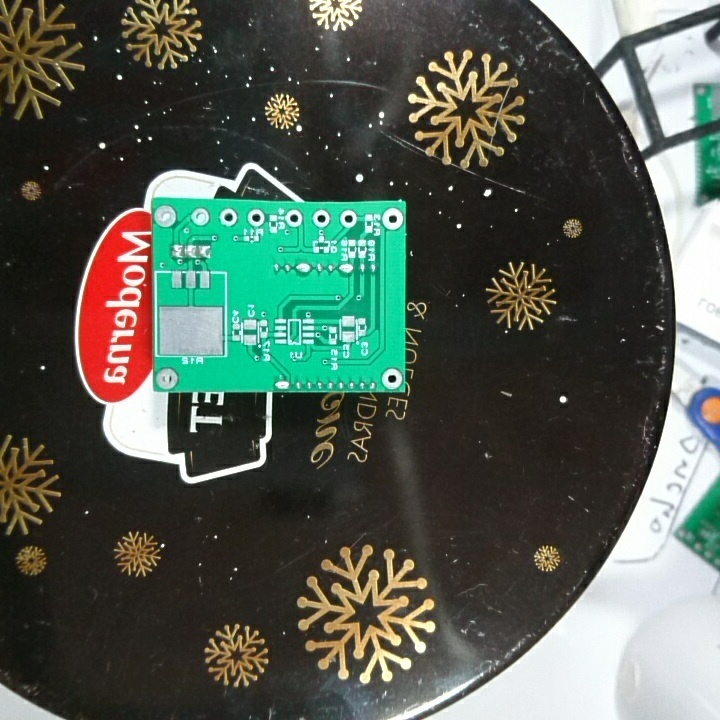F: (154, 366, 180, 392), (380, 206, 405, 233), (153, 203, 178, 229), (379, 367, 403, 391), (188, 206, 212, 229), (283, 207, 305, 229), (218, 207, 239, 229), (337, 209, 358, 229), (246, 208, 266, 227), (311, 209, 330, 229)
P: (293, 260, 314, 278), (337, 261, 356, 278), (271, 376, 292, 391)
